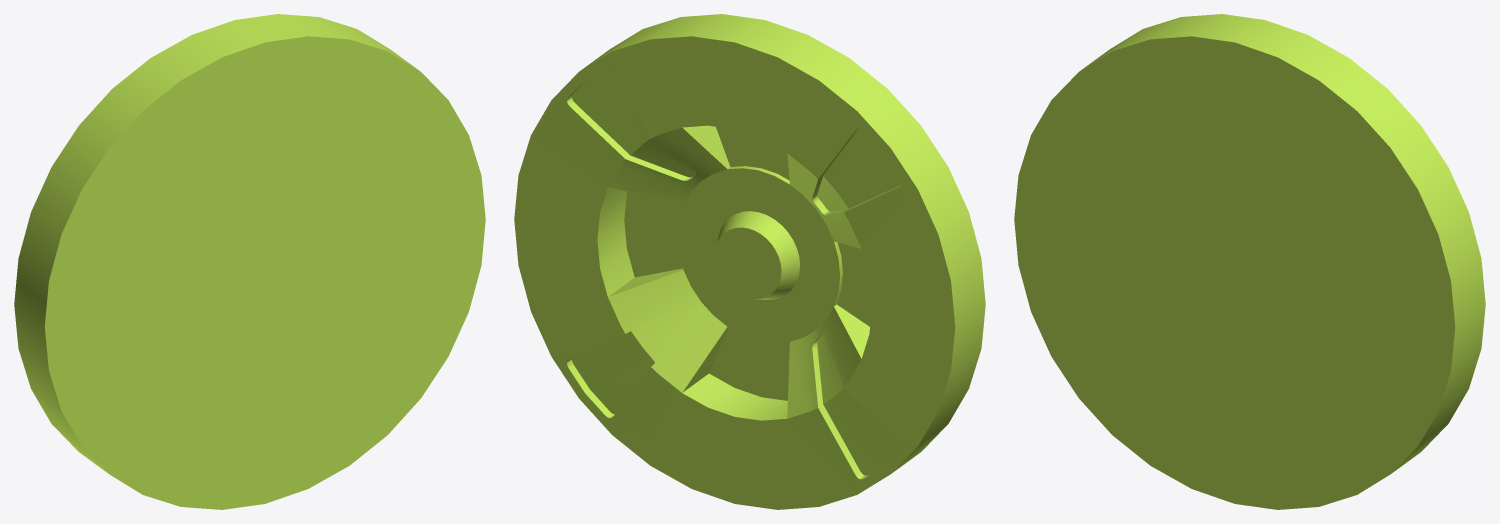
Rendered from RoundCorr_Separator_End_A.FBX.
The picture shows the model from 3 angles, left to right: view 1: azimuth 30°, elevation 25°; view 2: azimuth 150°, elevation 25°; view 3: azimuth 330°, elevation 25°; orthographic projection.
Visible parts, largest first — view 1: RoundCorr_Separator_End_A; view 2: RoundCorr_Separator_End_A; view 3: RoundCorr_Separator_End_A.
Part boxes in pixels (bbox=[...]): RoundCorr_Separator_End_A: bbox=[14, 14, 485, 509]; RoundCorr_Separator_End_A: bbox=[514, 14, 985, 509]; RoundCorr_Separator_End_A: bbox=[1014, 14, 1485, 509].
Size of the model in its own units: 500 by 500 by 60.15.
